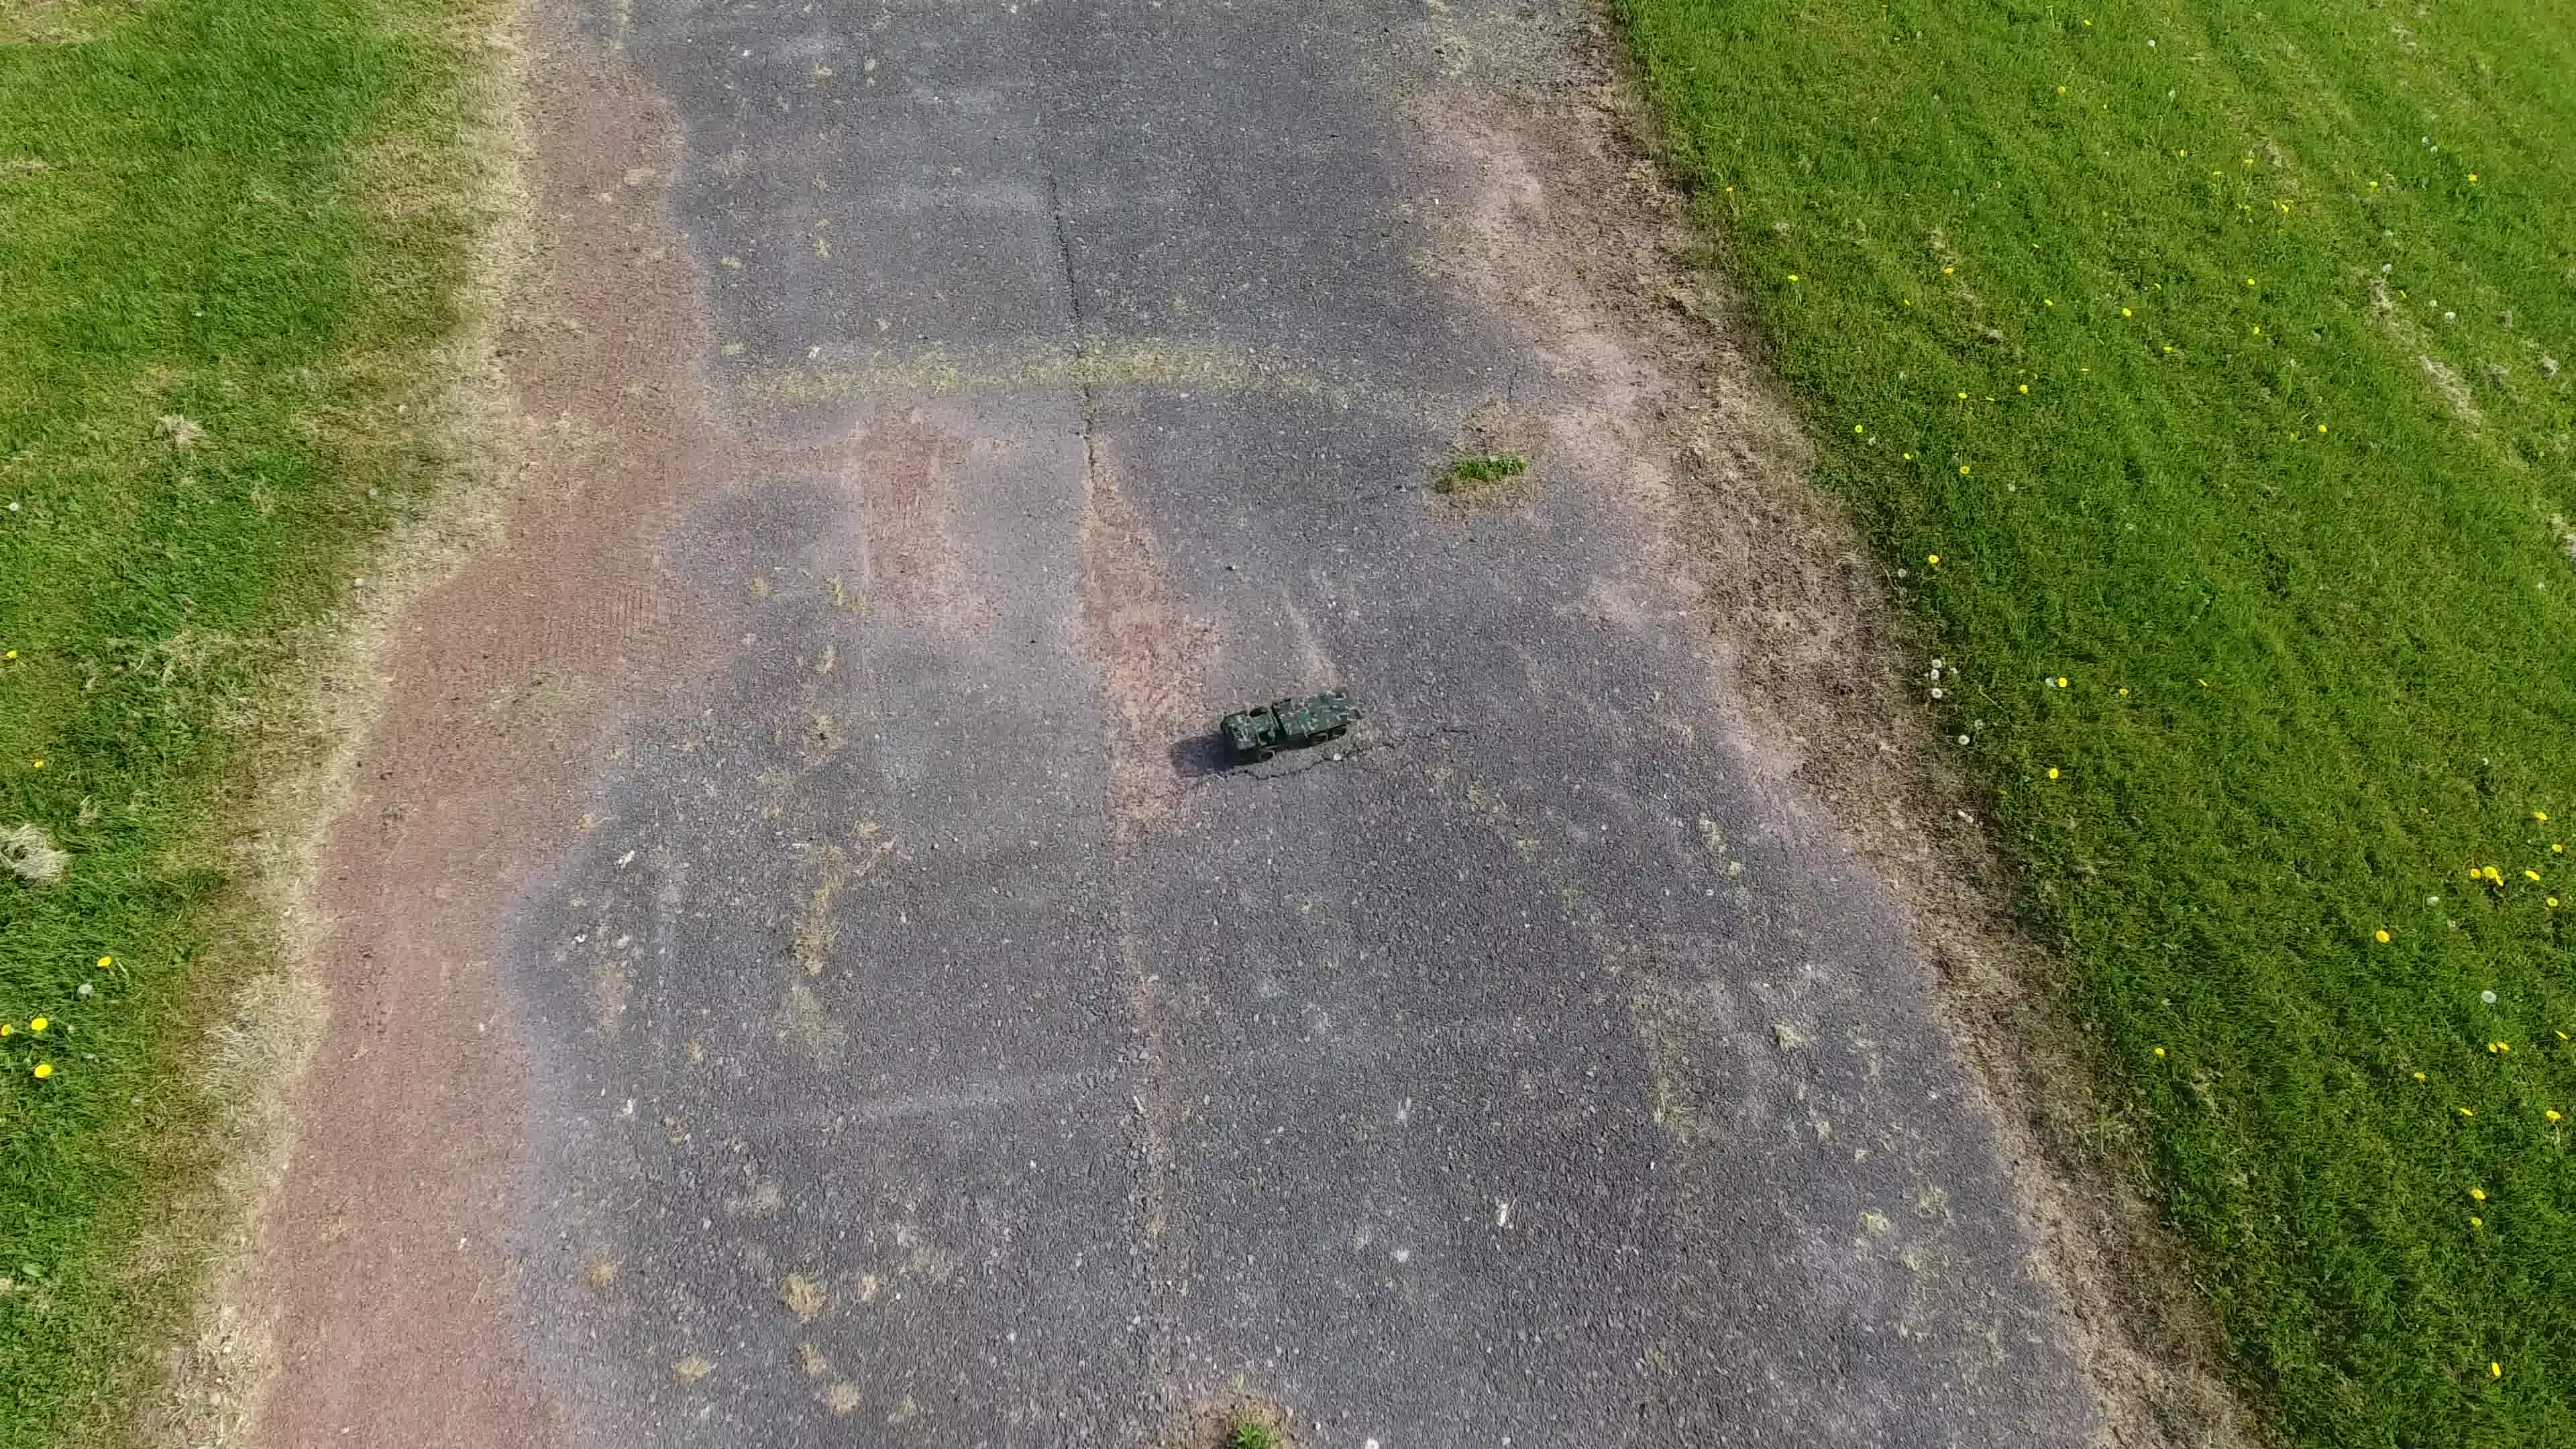transporter9_camo: (1217, 681, 1366, 764)
